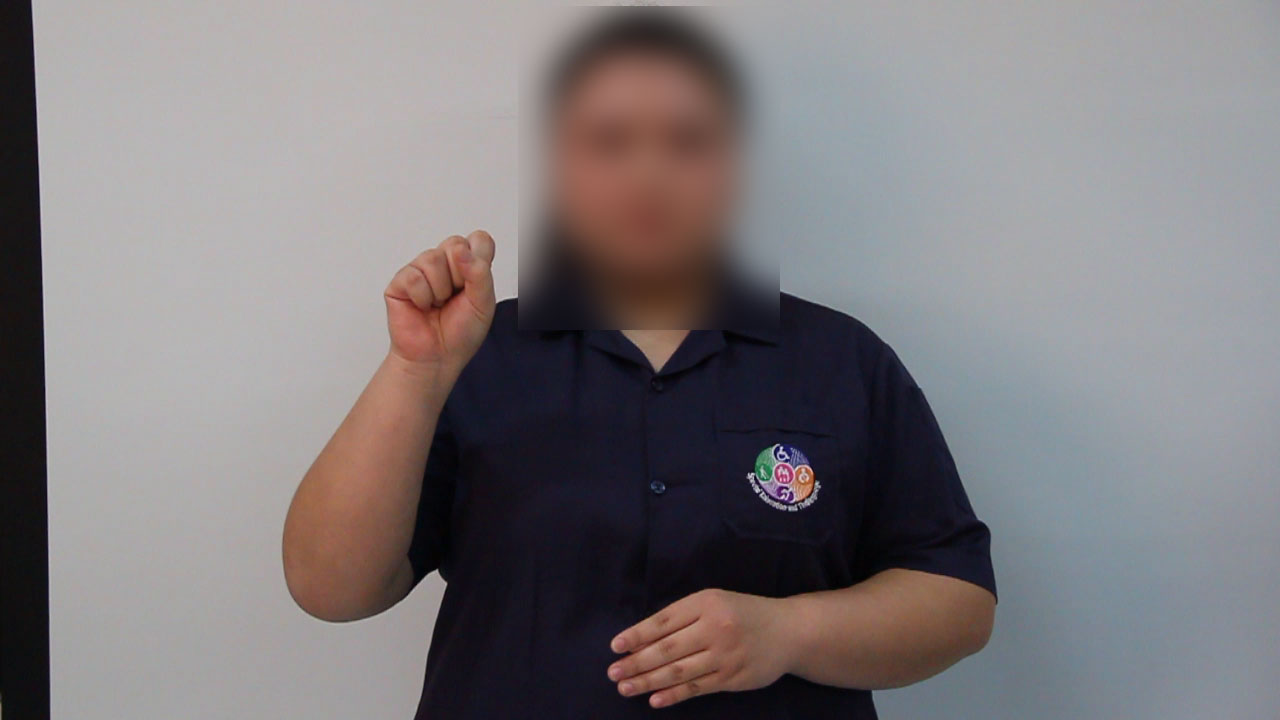sor: (368, 216, 507, 377)
